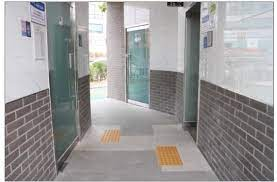guide_blocks: (153, 145, 182, 164), (100, 128, 119, 143)
